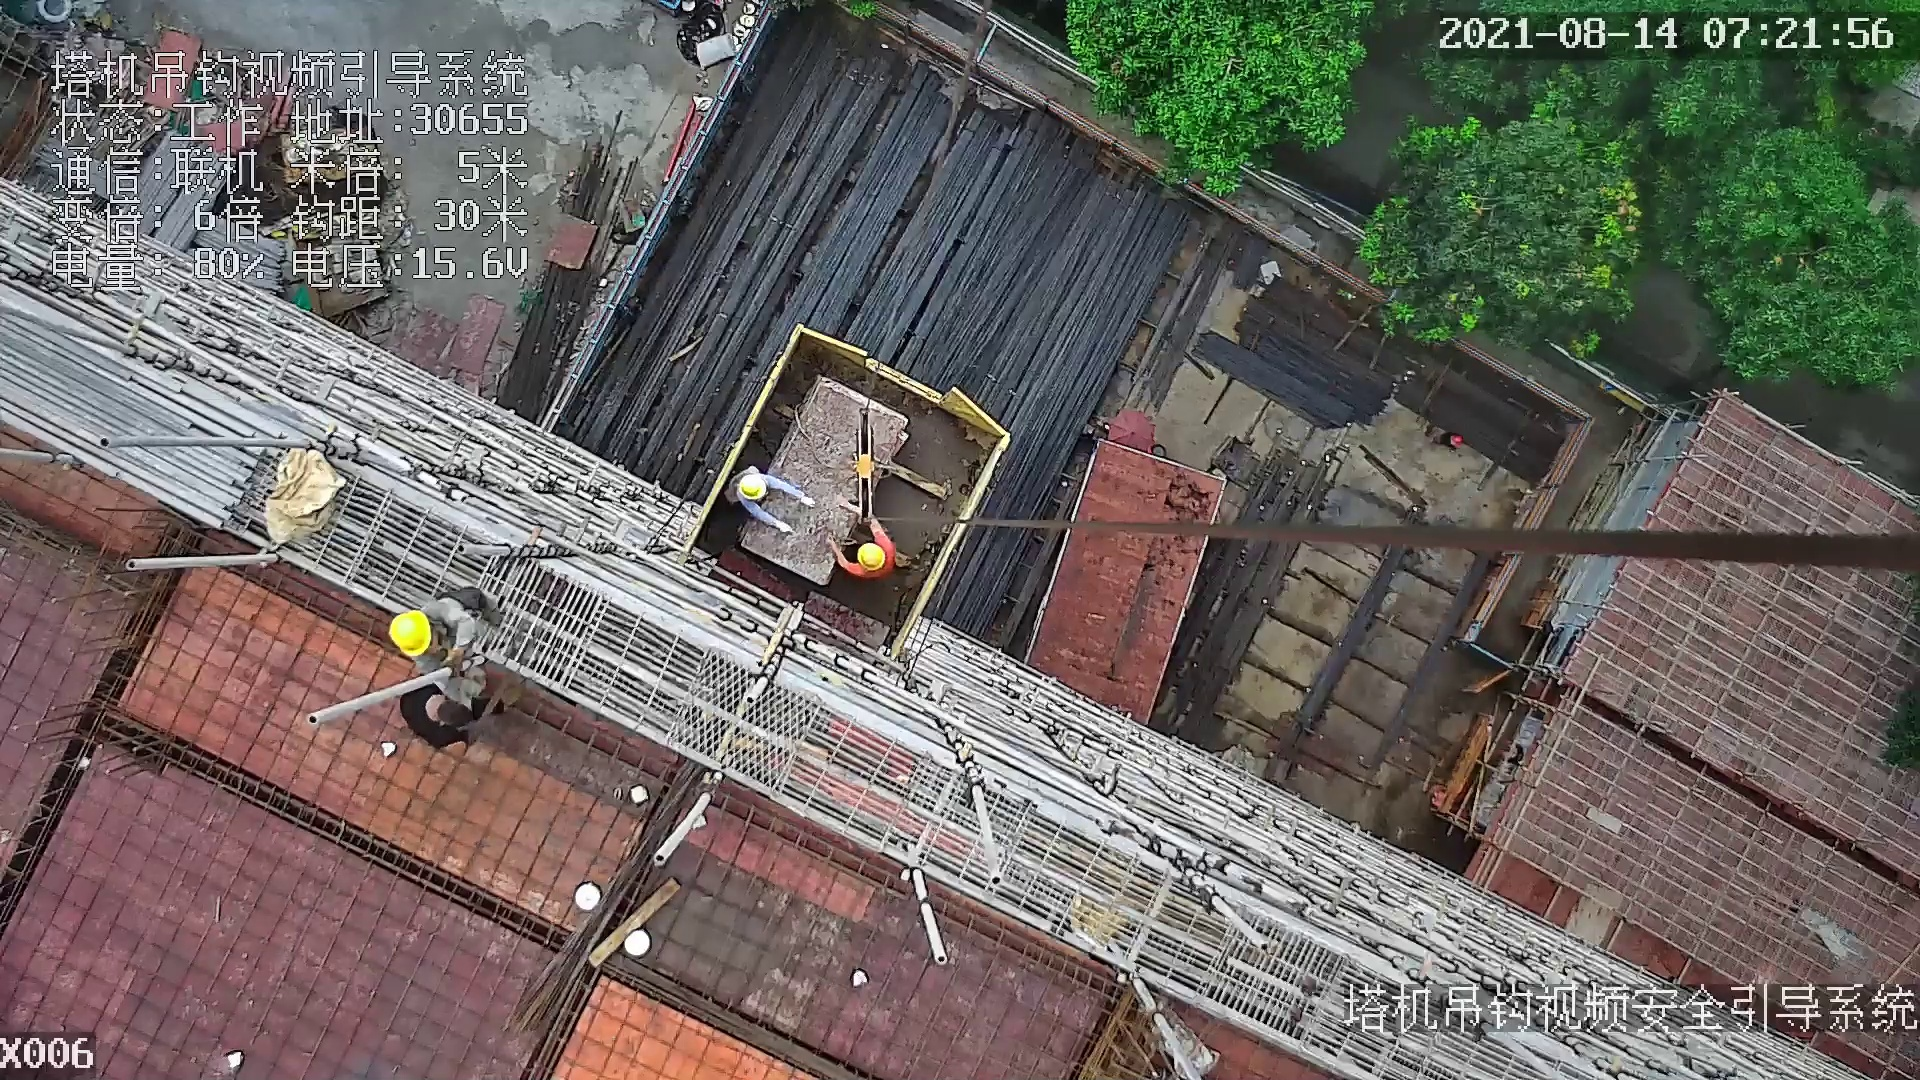helmet: (385, 603, 434, 663), (855, 536, 891, 572), (733, 469, 771, 504)
hook: (837, 412, 890, 531)
person: (372, 578, 509, 672), (394, 676, 524, 749), (820, 514, 912, 589), (723, 469, 817, 535)
